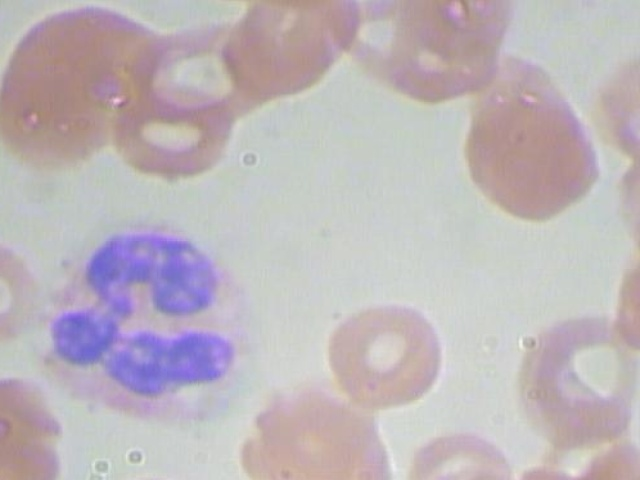RBC: (455, 51, 607, 222), (501, 295, 640, 450), (308, 290, 459, 418), (115, 1, 265, 126), (96, 75, 240, 183), (217, 0, 367, 100), (241, 385, 385, 480), (579, 27, 640, 165), (389, 421, 531, 480), (397, 427, 527, 480), (565, 430, 640, 480), (623, 210, 640, 340)
WBC: (20, 203, 288, 434)
